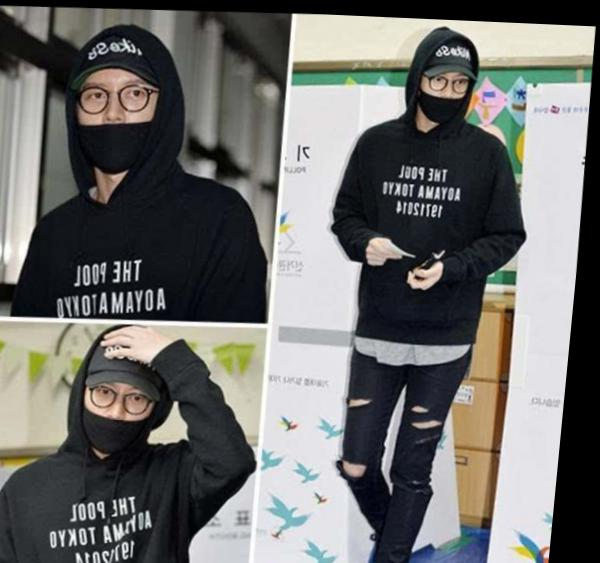WRONG: (76, 60, 165, 174), (89, 371, 168, 454), (418, 62, 472, 121)
